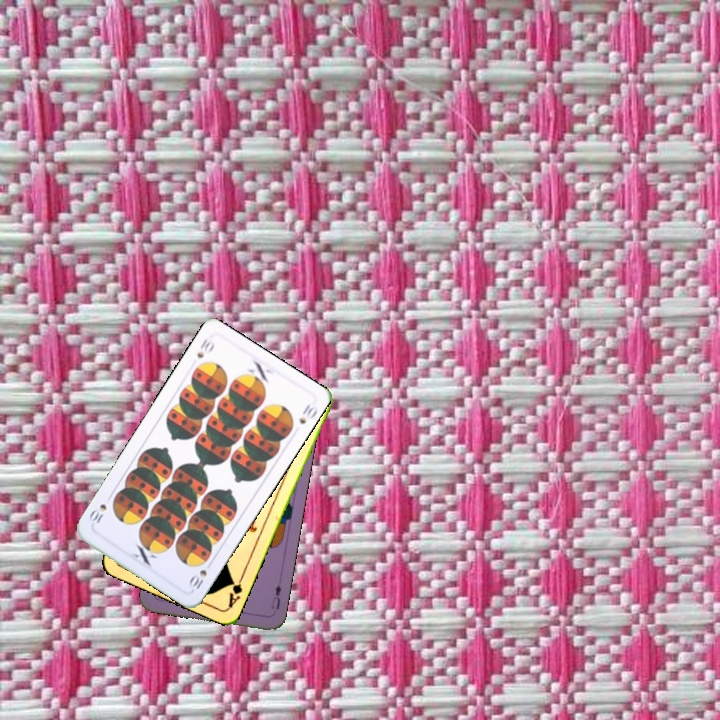EU: (267, 581, 284, 612)
GA: (224, 571, 246, 610)
S10: (185, 557, 215, 592), (193, 335, 217, 361)
